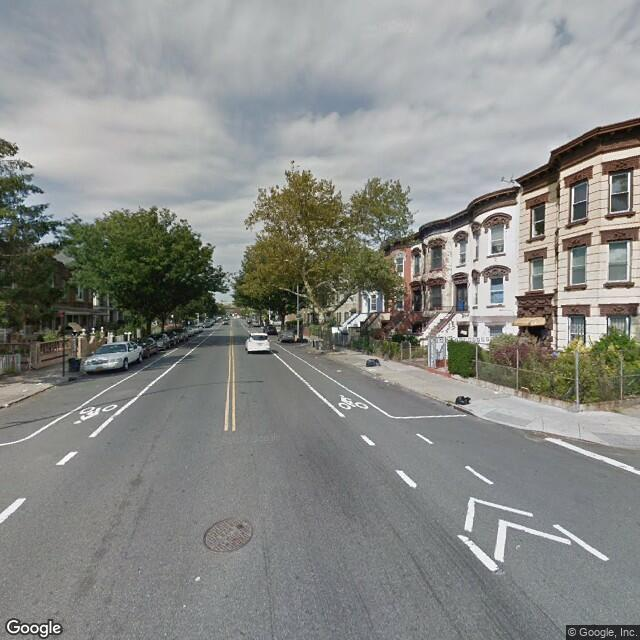litter: (455, 396, 471, 403), (1, 402, 13, 411), (380, 379, 393, 384), (335, 368, 344, 373)
